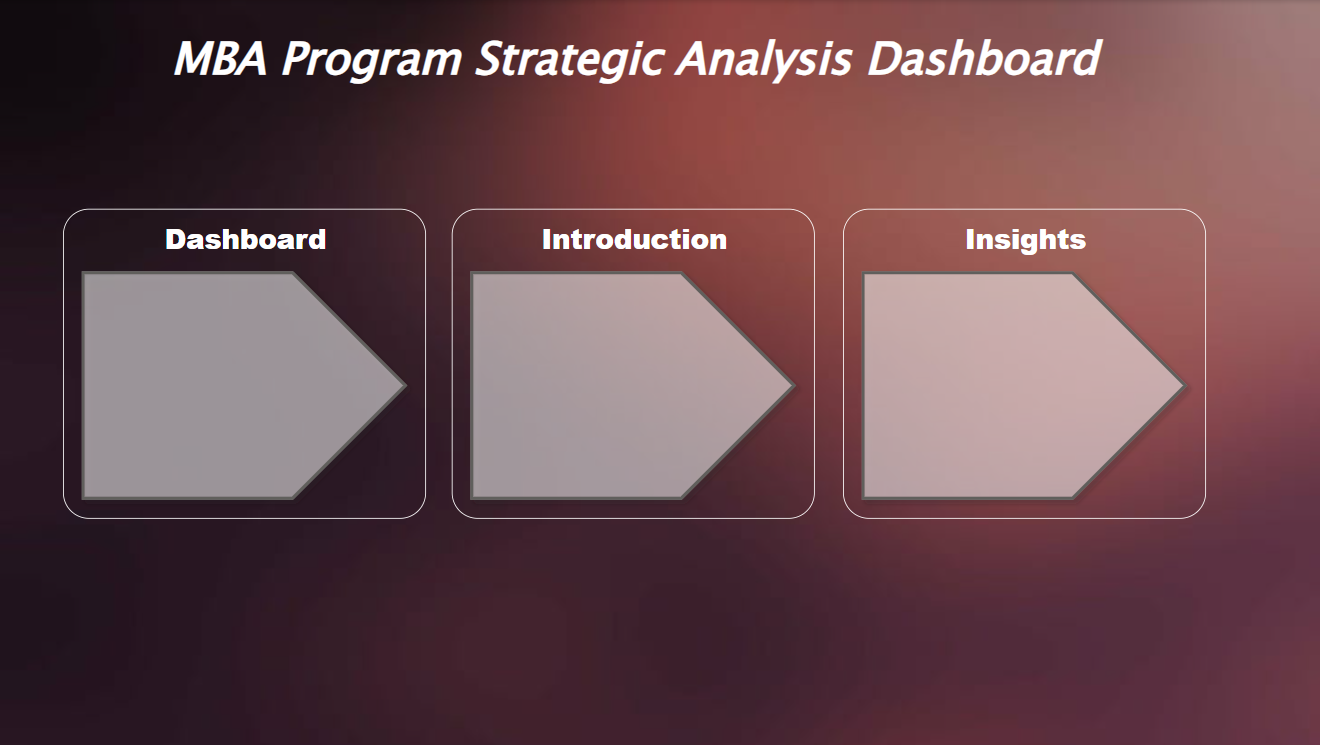

Layout of this report page (visuals, bound fields, positions):
{"tool":"powerbi","page":{"name":"Home","canvas":[1280,720],"ordinal":0},"visuals":[{"type":"actionButton","title":"Dashboard","box":[62.7,201,350.6,299.3],"z":0},{"type":"actionButton","title":"Introduction","box":[437.6,201,350.6,299.3],"z":1000},{"type":"actionButton","title":"Insights","box":[815.3,201,350.6,299.3],"z":2000},{"type":"textbox","box":[62.7,20,1103.3,82.7],"z":3000}]}

Visuals, with their boxes in screenshot pixels (x1, y1, x2, y2), scaled from the page's 1280x720 canvas onto the 1320x745 screenshot:
"Dashboard" actionButton: 65,208,426,518
"Introduction" actionButton: 451,208,813,518
"Insights" actionButton: 841,208,1202,518
textbox: 65,21,1202,106
